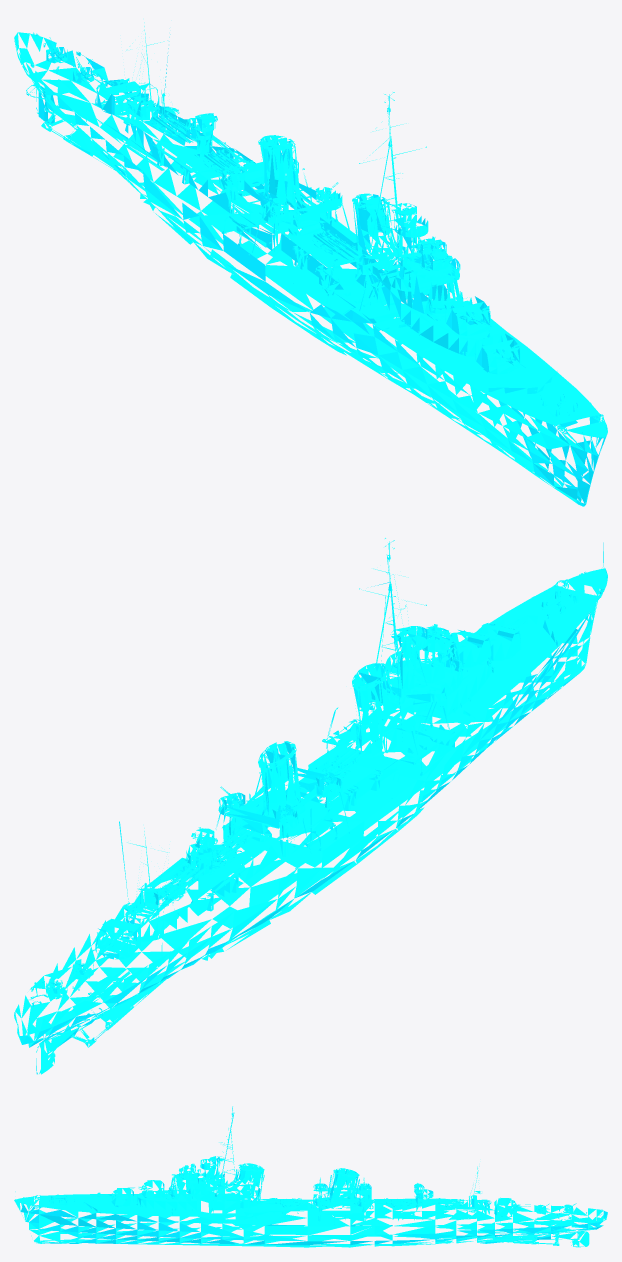
Rendered from PRSD919.glb.
The picture shows the model from 3 angles, top to bottom: view 1: azimuth 30°, elevation 25°; view 2: azimuth 150°, elevation 25°; view 3: azimuth 270°, elevation 25°; orthographic projection. The views are drawn at different scales.
Visible parts, largest first — view 1: hull_mid, hull_bow, hull_stern, main_battery, torpedo, aa_mount, superstructure; view 2: hull_mid, hull_bow, hull_stern, main_battery, torpedo, aa_mount, superstructure; view 3: hull_mid, hull_bow, hull_stern, main_battery, torpedo, aa_mount, superstructure.
Boxes of the visible parts, bbox=[...] form: hull_mid: bbox=[74, 22, 544, 450]; hull_bow: bbox=[464, 361, 607, 506]; hull_stern: bbox=[14, 32, 148, 156]; main_battery: bbox=[90, 73, 525, 373]; torpedo: bbox=[152, 111, 362, 260]; aa_mount: bbox=[46, 37, 338, 218]; superstructure: bbox=[191, 92, 452, 270]; hull_mid: bbox=[76, 554, 544, 1008]; hull_bow: bbox=[464, 542, 607, 728]; hull_stern: bbox=[14, 947, 148, 1074]; main_battery: bbox=[90, 619, 525, 958]; torpedo: bbox=[153, 747, 366, 906]; aa_mount: bbox=[46, 755, 340, 999]; superstructure: bbox=[191, 538, 452, 848]; hull_mid: bbox=[115, 1112, 514, 1247]; hull_bow: bbox=[14, 1191, 115, 1243]; hull_stern: bbox=[513, 1204, 607, 1247]; main_battery: bbox=[97, 1180, 530, 1215]; torpedo: bbox=[263, 1198, 463, 1207]; aa_mount: bbox=[315, 1177, 576, 1214]; superstructure: bbox=[179, 1106, 424, 1193].
Size of the model in its own units: 0.9313 by 2.49 by 9.32.
